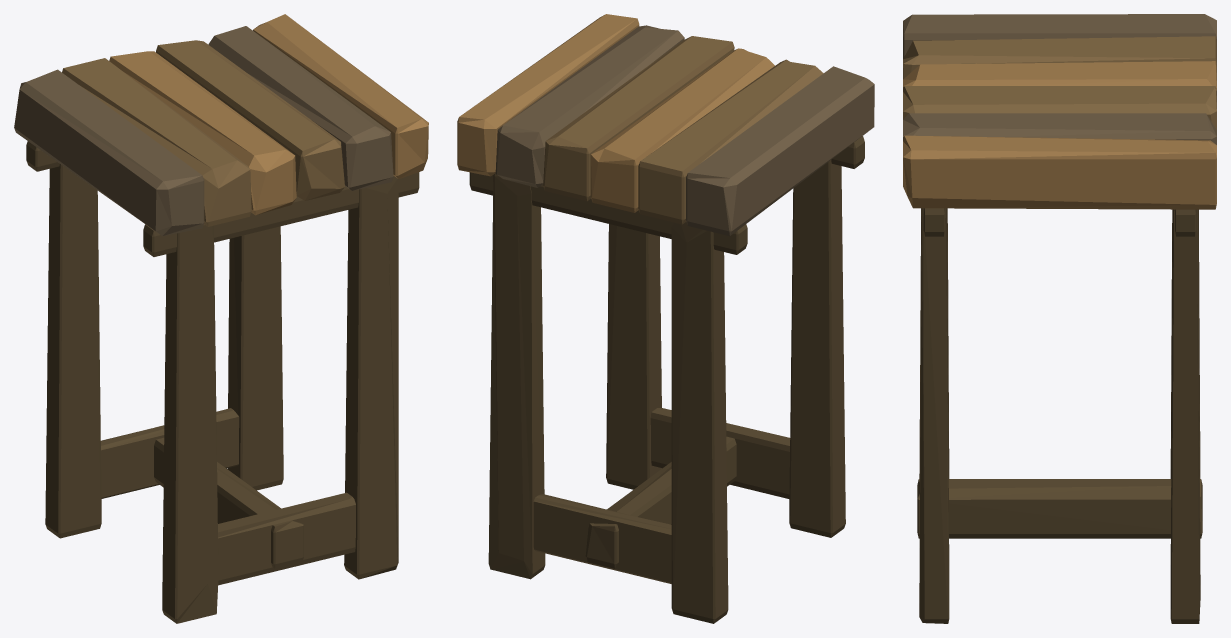
File: Chair.glb
3 renders of one model, left to right at view 1: azimuth 30°, elevation 25°; view 2: azimuth 150°, elevation 25°; view 3: azimuth 270°, elevation 25°, orthographic. The views are drawn at different scales.
Parts seen in each view (by area): view 1: world; view 2: world; view 3: world.
Boxes of the visible parts, x1,y1,x2,y2 form: world: [14, 14, 428, 623]; world: [457, 14, 874, 623]; world: [903, 14, 1216, 623].
Bounding box in the file's own units: 108 × 170 × 100.
